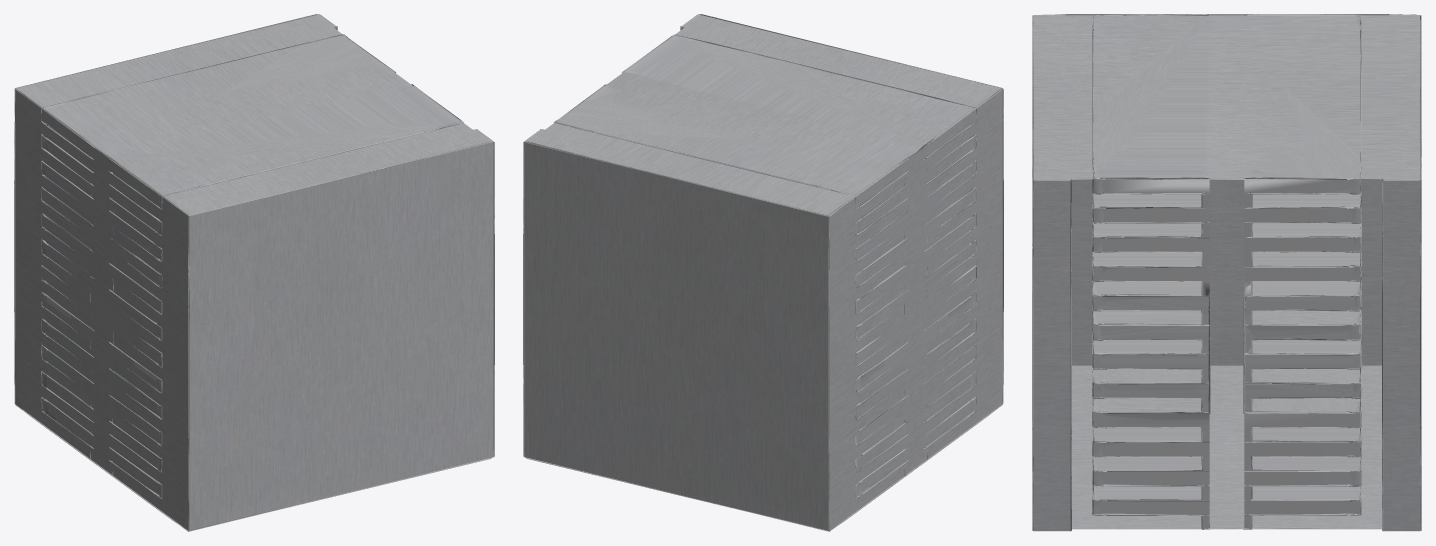
The picture shows the model from 3 angles, left to right: view 1: azimuth 30°, elevation 25°; view 2: azimuth 150°, elevation 25°; view 3: azimuth 270°, elevation 25°; orthographic projection. The views are drawn at different scales.
Visible parts, largest first — view 1: Cube.031; view 2: Cube.031; view 3: Cube.031.
Boxes of the visible parts, box(x1,y1,x2,y2) form: Cube.031: box(14, 14, 494, 531); Cube.031: box(523, 14, 1003, 531); Cube.031: box(1032, 14, 1421, 531).
Size of the model in its own units: 3.17 by 3.14 by 3.14.
Materials: 1 (1 with a texture image).
